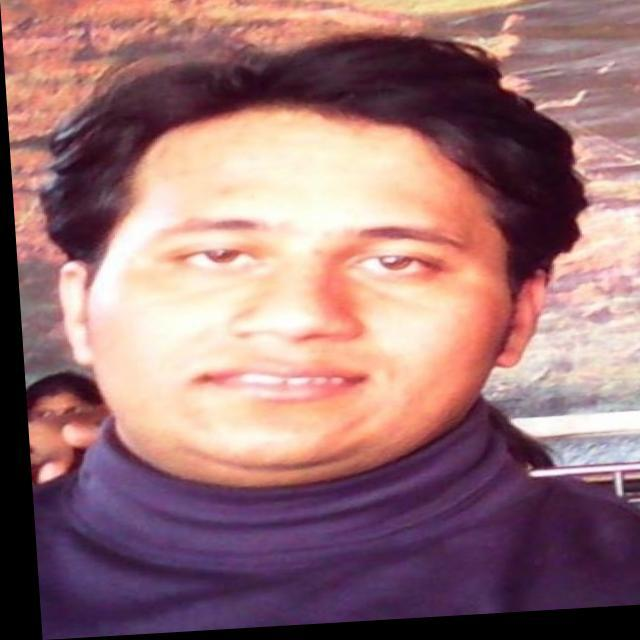Nonhelmet: (37, 28, 589, 491)
